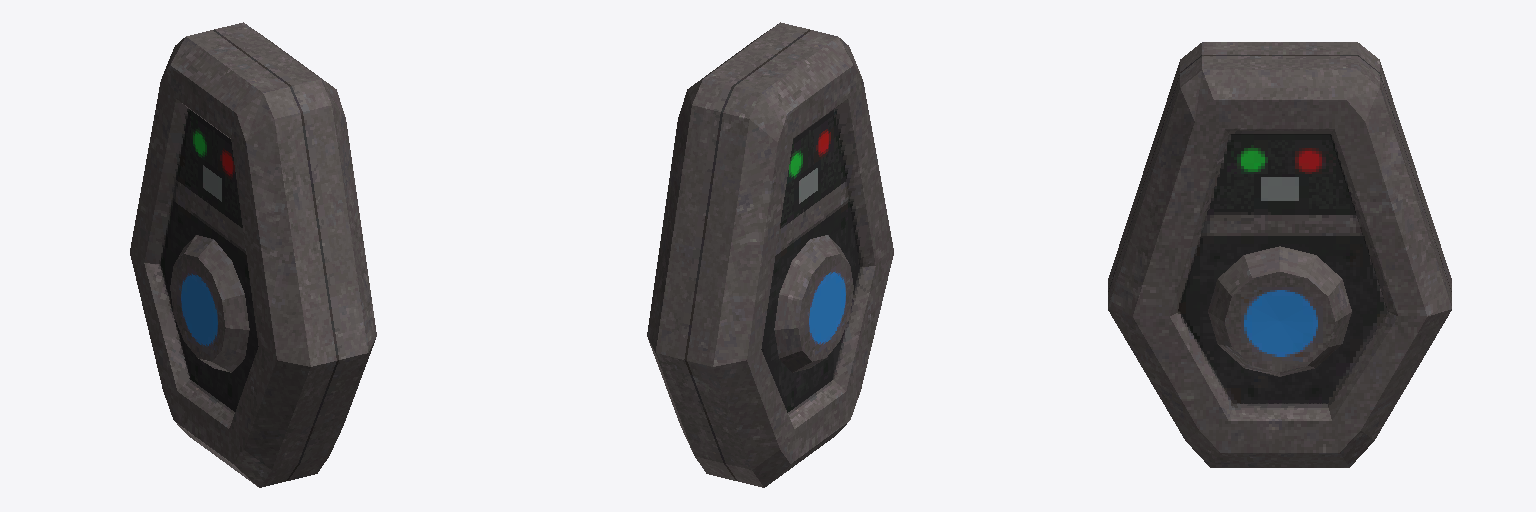
3 renders of one model, left to right at view 1: azimuth 30°, elevation 25°; view 2: azimuth 150°, elevation 25°; view 3: azimuth 270°, elevation 25°, orthographic.
Visible parts, largest first — view 1: Prop_Batarang_Sonar; view 2: Prop_Batarang_Sonar; view 3: Prop_Batarang_Sonar.
Part boxes in pixels (bbox=[...]): Prop_Batarang_Sonar: bbox=[130, 22, 376, 487]; Prop_Batarang_Sonar: bbox=[647, 22, 893, 487]; Prop_Batarang_Sonar: bbox=[1108, 42, 1451, 467].
Size of the model in its own units: 0.1208 by 0.3945 by 0.3101.
1 materials, 1 textured.